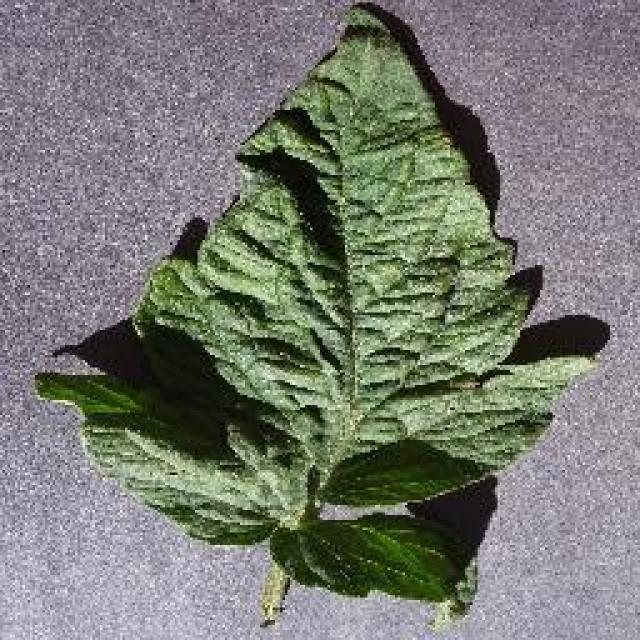Tomato healthy leaf: (43, 13, 595, 625)
